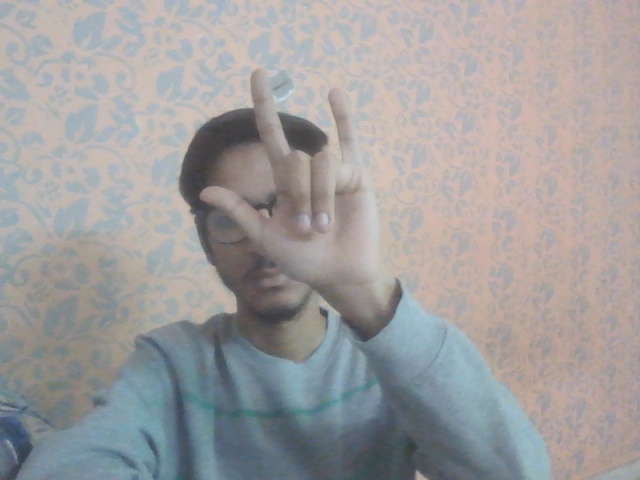ILoveYou: (196, 63, 387, 297)
